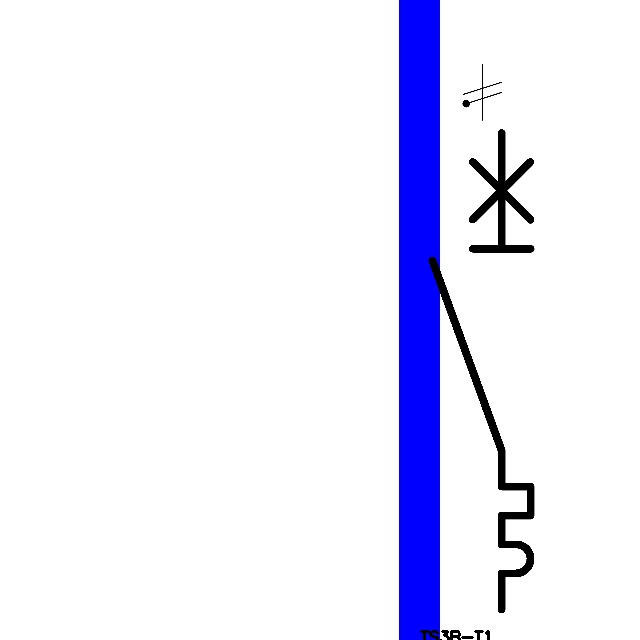interruptor_termomagnetico: (420, 120, 543, 621)
